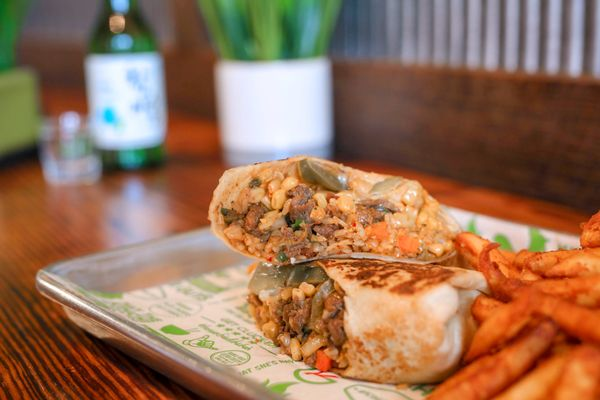pizza: (197, 0, 344, 170)
